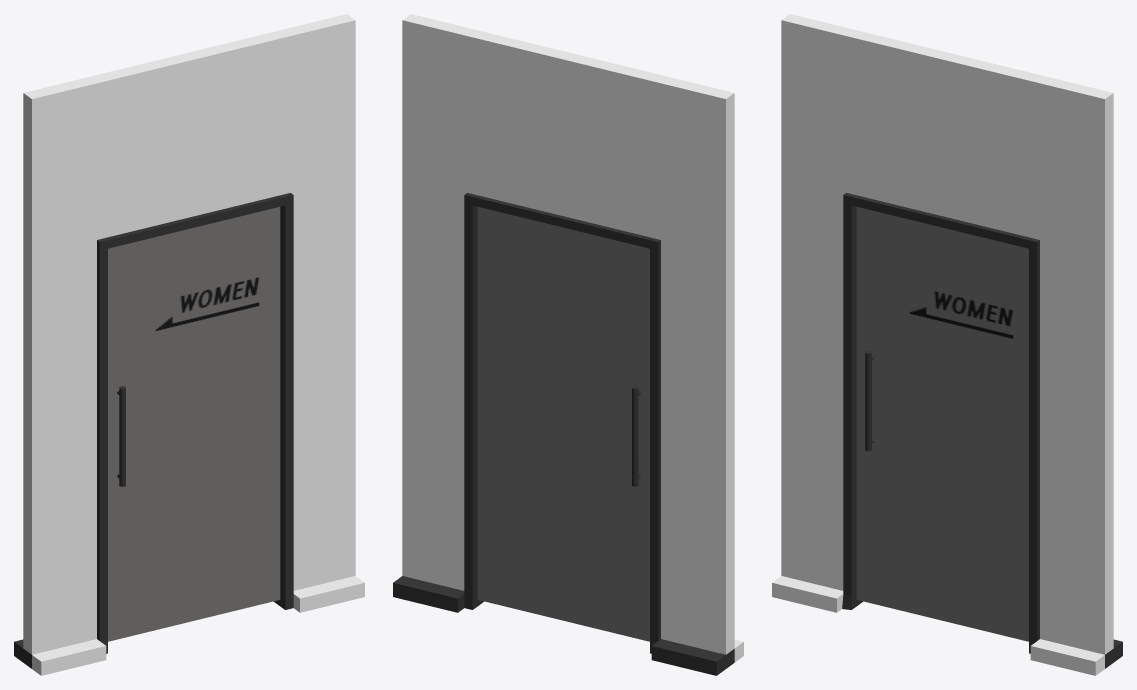
File: 32_wall(toilet)_W.FBX
The picture shows the model from 3 angles, left to right: view 1: azimuth 30°, elevation 25°; view 2: azimuth 150°, elevation 25°; view 3: azimuth 330°, elevation 25°; orthographic projection.
Visible parts, largest first — view 1: 32_wall(toilet), 32_wall(toilet)_door; view 2: 32_wall(toilet), 32_wall(toilet)_door; view 3: 32_wall(toilet), 32_wall(toilet)_door.
Part boxes in pixels (box(x1,y1,x2,y2)): 32_wall(toilet): box(14, 14, 364, 675); 32_wall(toilet)_door: box(108, 207, 280, 641); 32_wall(toilet): box(393, 14, 743, 675); 32_wall(toilet)_door: box(477, 207, 649, 641); 32_wall(toilet): box(772, 14, 1122, 675); 32_wall(toilet)_door: box(856, 207, 1028, 641).
Size of the model in its own units: 256 by 432 by 37.56.
